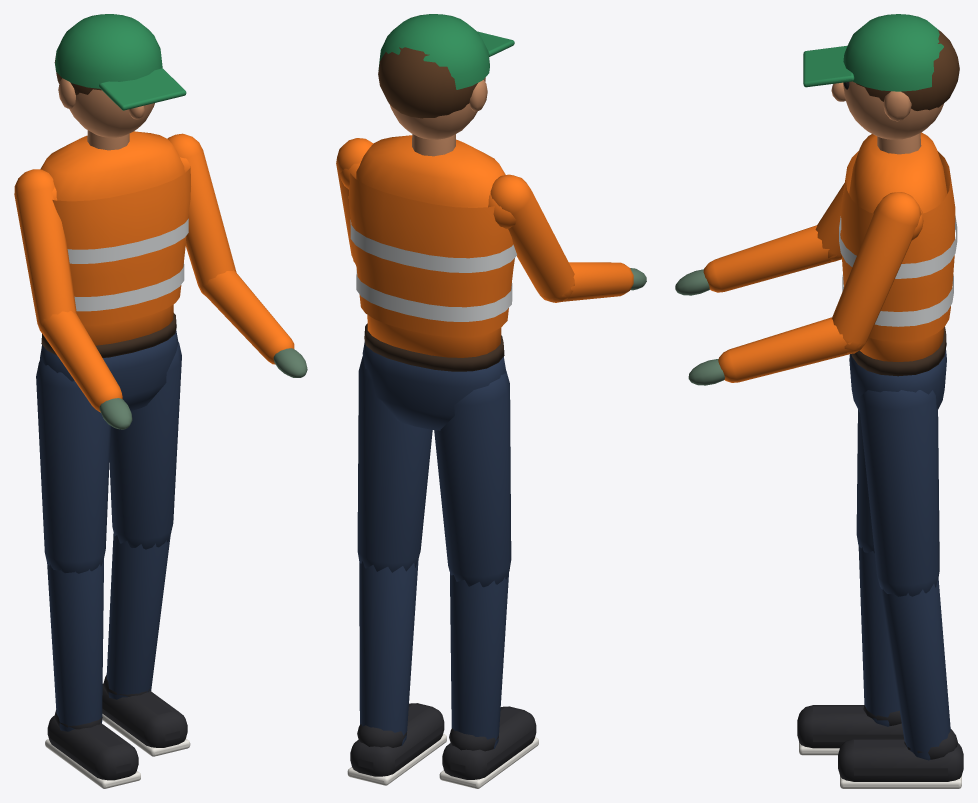
File: player_sorting.fbx
3 renders of one model, left to right at view 1: azimuth 30°, elevation 25°; view 2: azimuth 150°, elevation 25°; view 3: azimuth 270°, elevation 25°, orthographic. The views are drawn at different scales.
Parts seen in each view (by area): view 1: player_sorting; view 2: player_sorting; view 3: player_sorting.
Boxes of the visible parts, x1=… form: player_sorting: x1=14, y1=14, x2=307, y2=788; player_sorting: x1=336, y1=14, x2=646, y2=788; player_sorting: x1=675, y1=14, x2=963, y2=788.
Bounding box in the file's own units: 0.531 × 1.76 × 0.6201.
